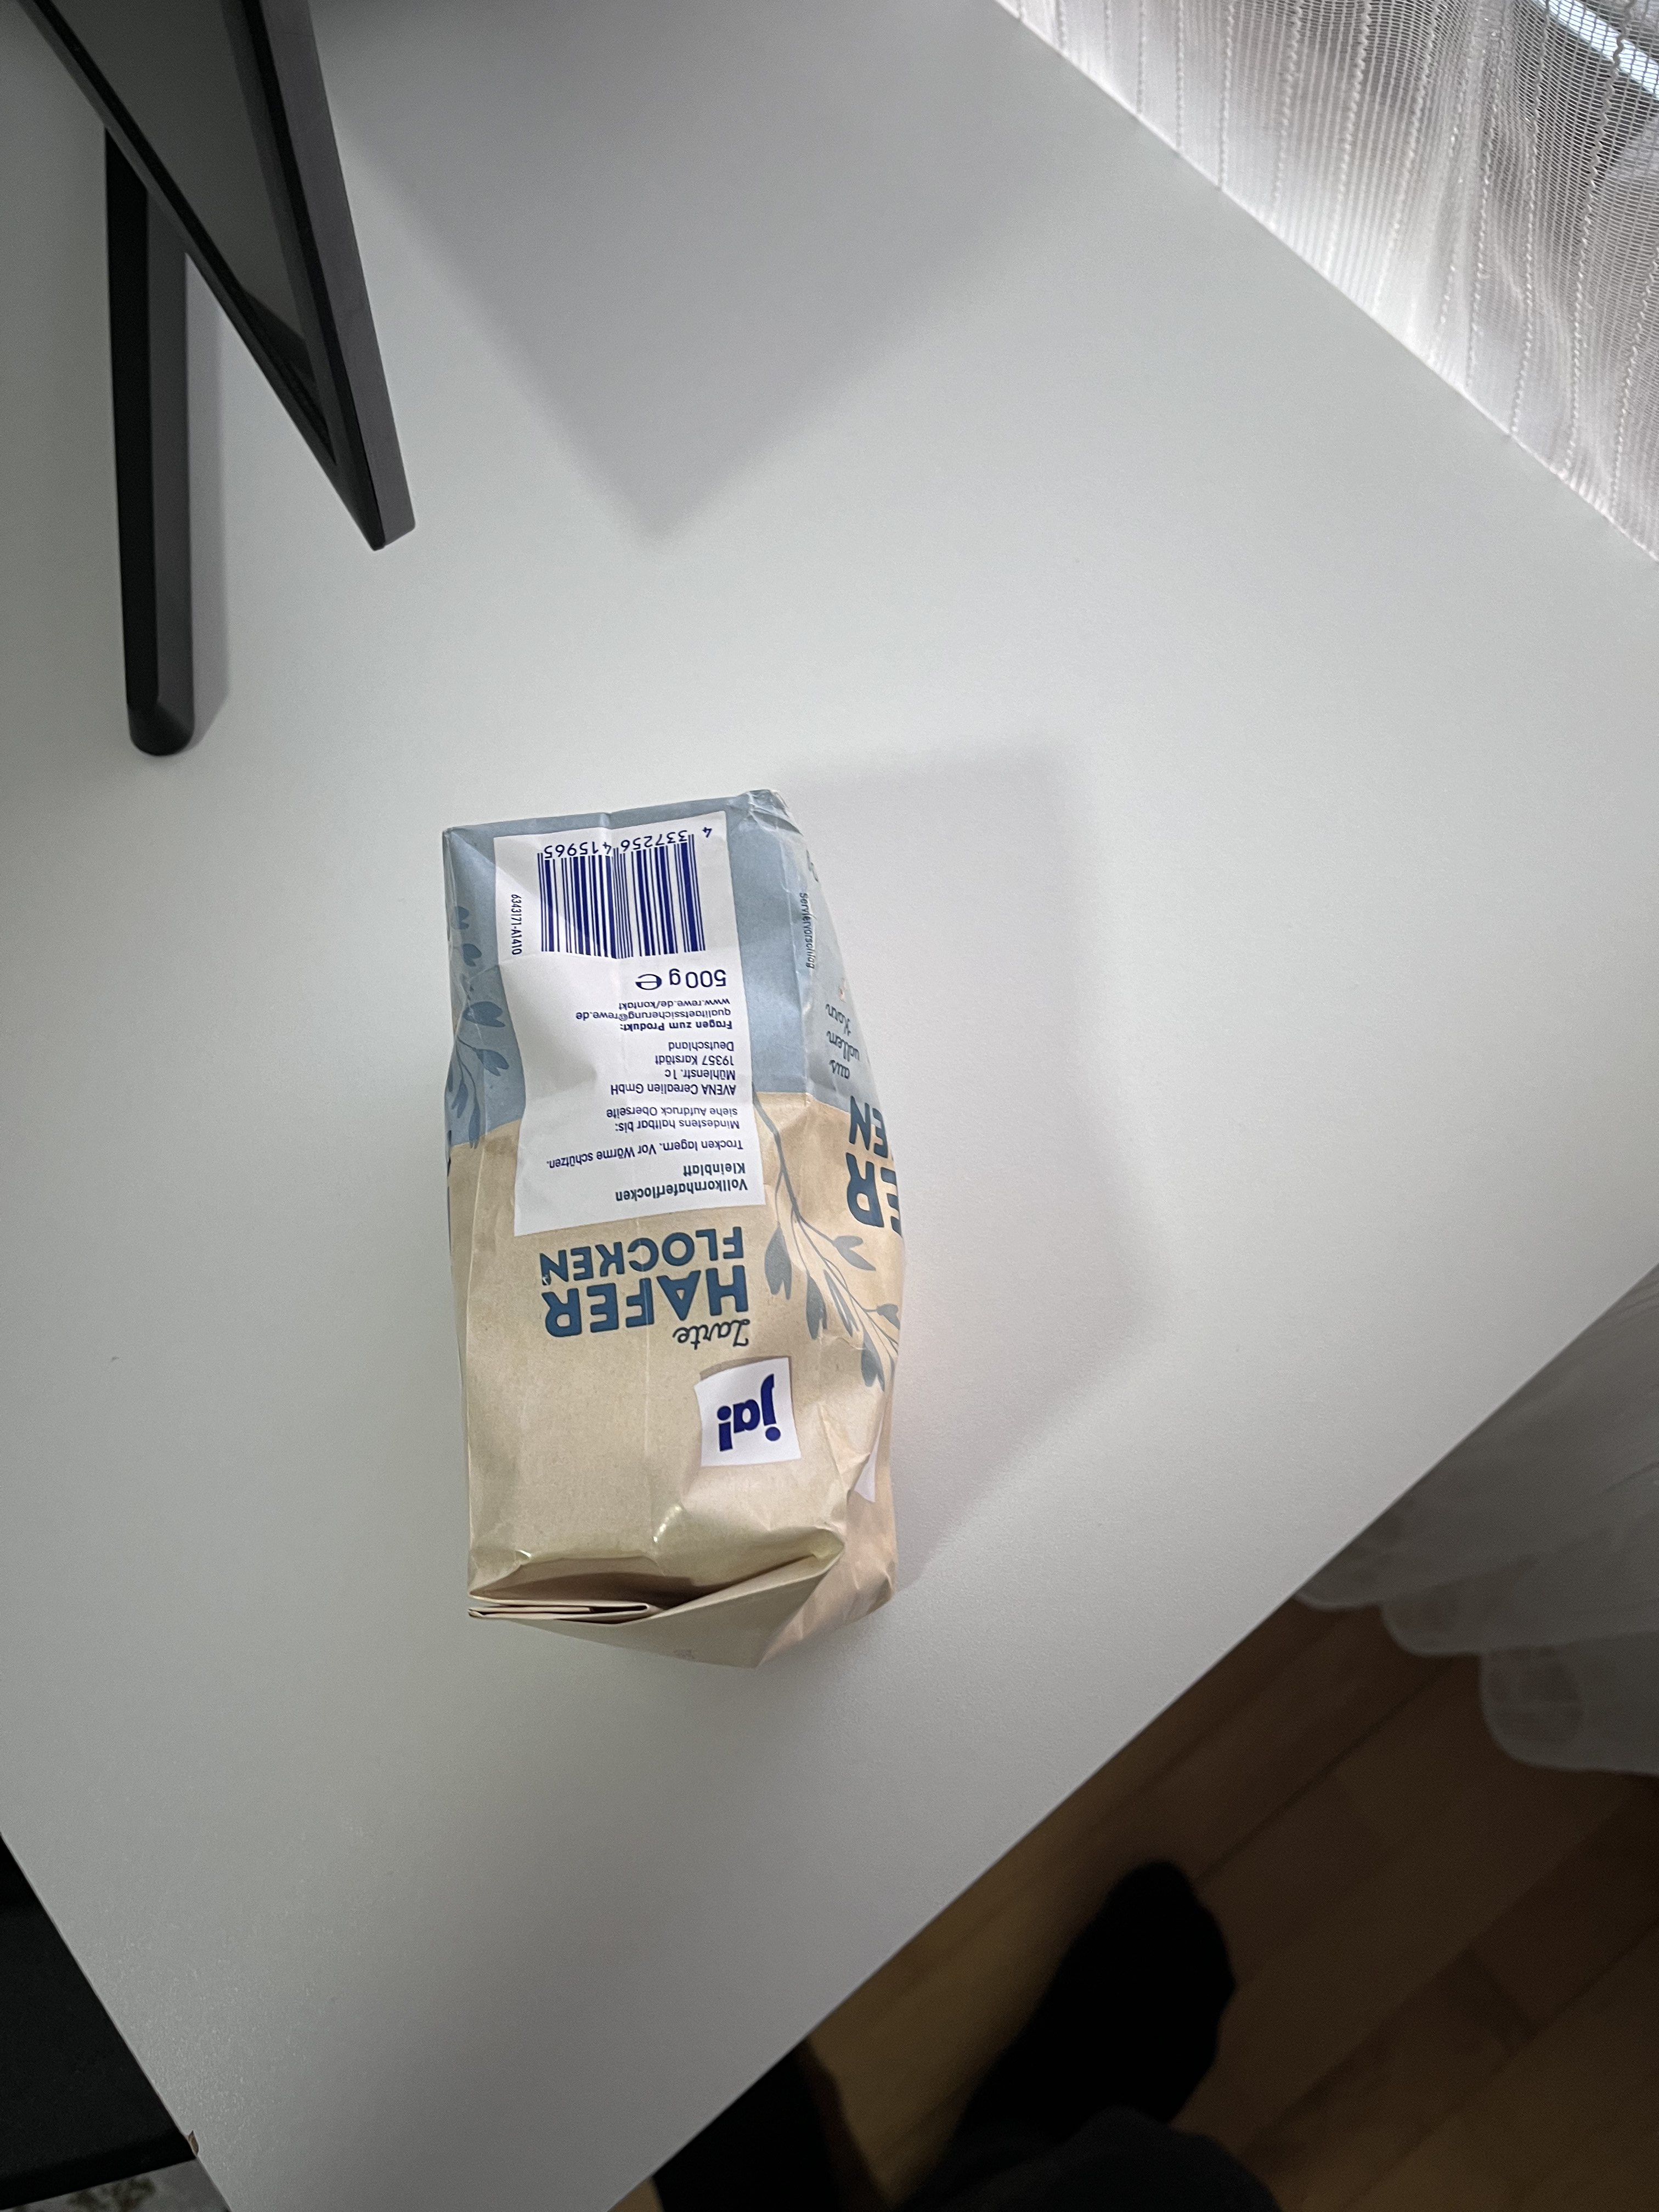haferflocken_ja: (443, 791, 904, 1660)
